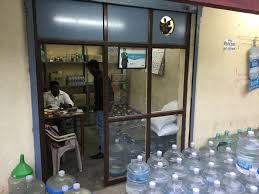plastic: (160, 153, 245, 188), (52, 177, 91, 193), (133, 161, 148, 186)
